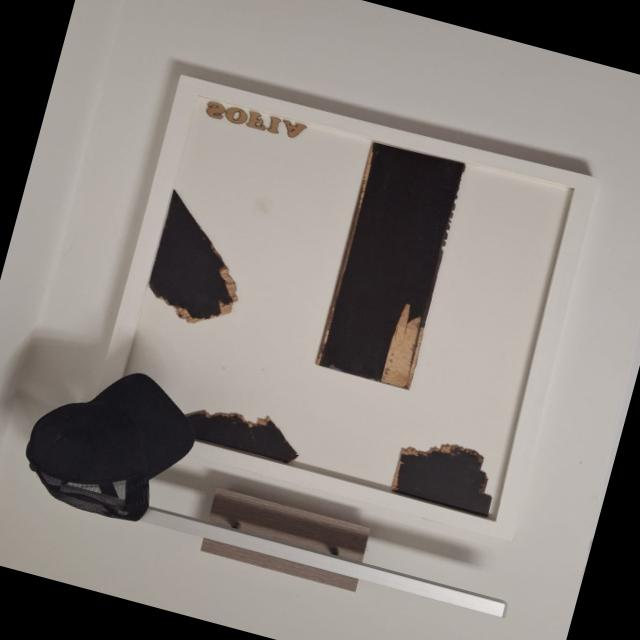Gorra: (11, 344, 224, 540)
